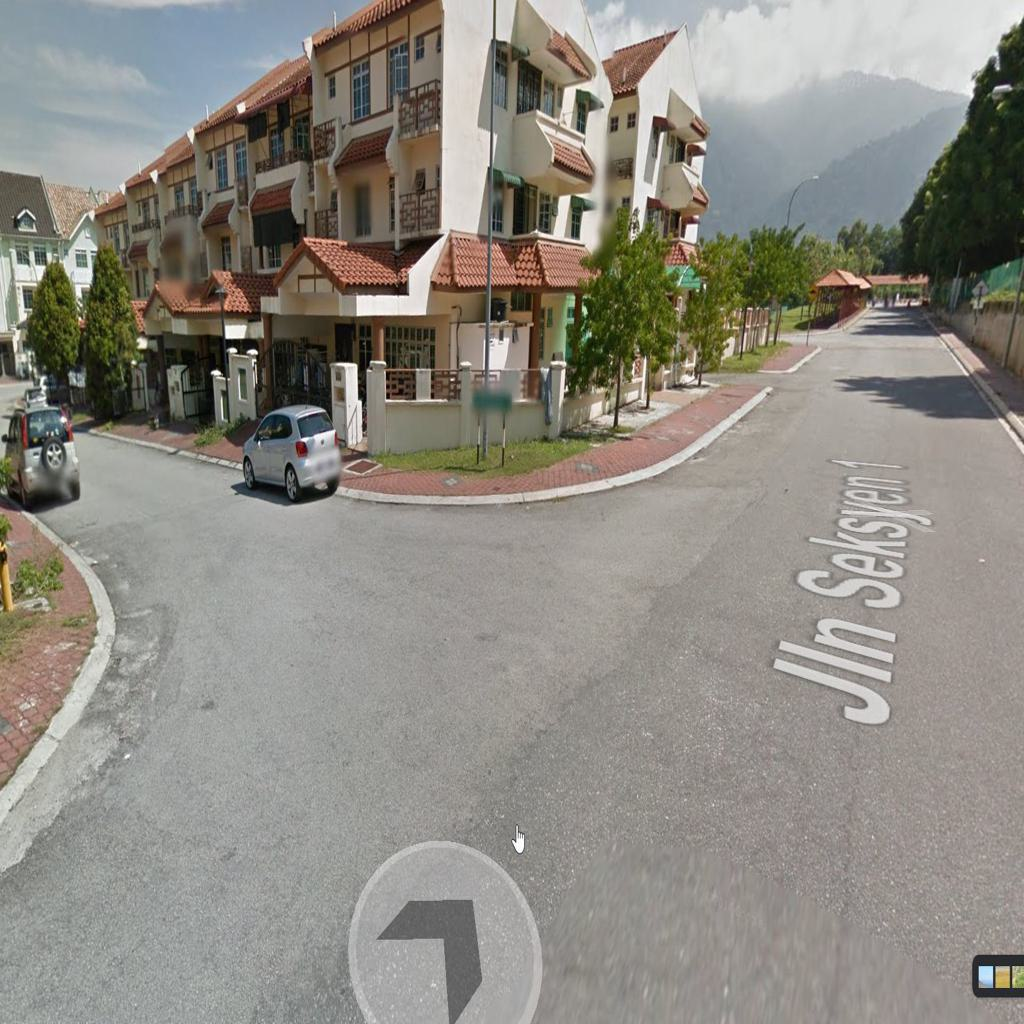Junction: (14, 417, 511, 738)
